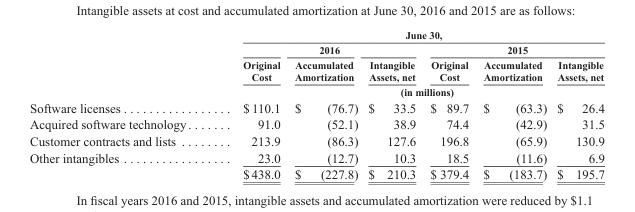table: (29, 29, 603, 181)
table column: (29, 29, 216, 181), (286, 29, 362, 181), (475, 29, 551, 181), (216, 29, 286, 181), (362, 29, 422, 181), (422, 29, 475, 181), (551, 29, 603, 181)
table column header: (29, 29, 603, 98)
table row: (29, 56, 603, 84), (29, 98, 603, 115), (29, 115, 603, 132), (29, 132, 603, 149), (29, 149, 603, 165), (29, 165, 603, 181), (29, 42, 603, 56), (29, 84, 603, 98), (29, 29, 603, 42)
table spanning cell: (216, 84, 603, 98), (216, 29, 603, 42), (216, 42, 422, 56), (422, 42, 603, 56)
